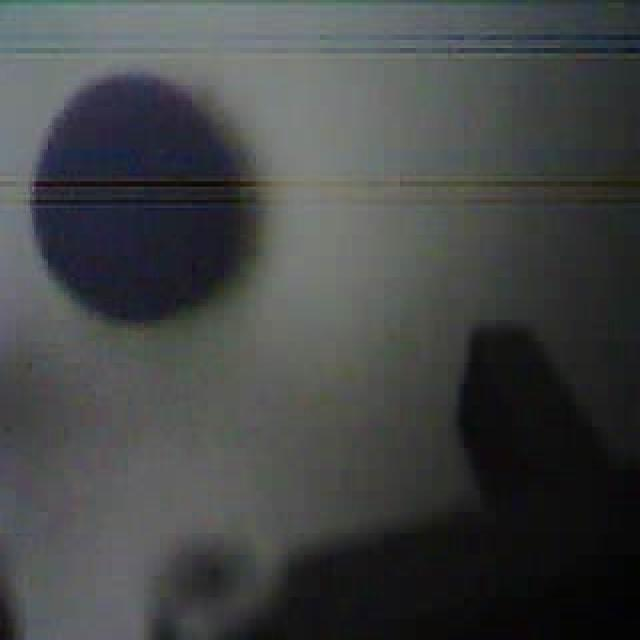blue_ball: (26, 66, 262, 330)
